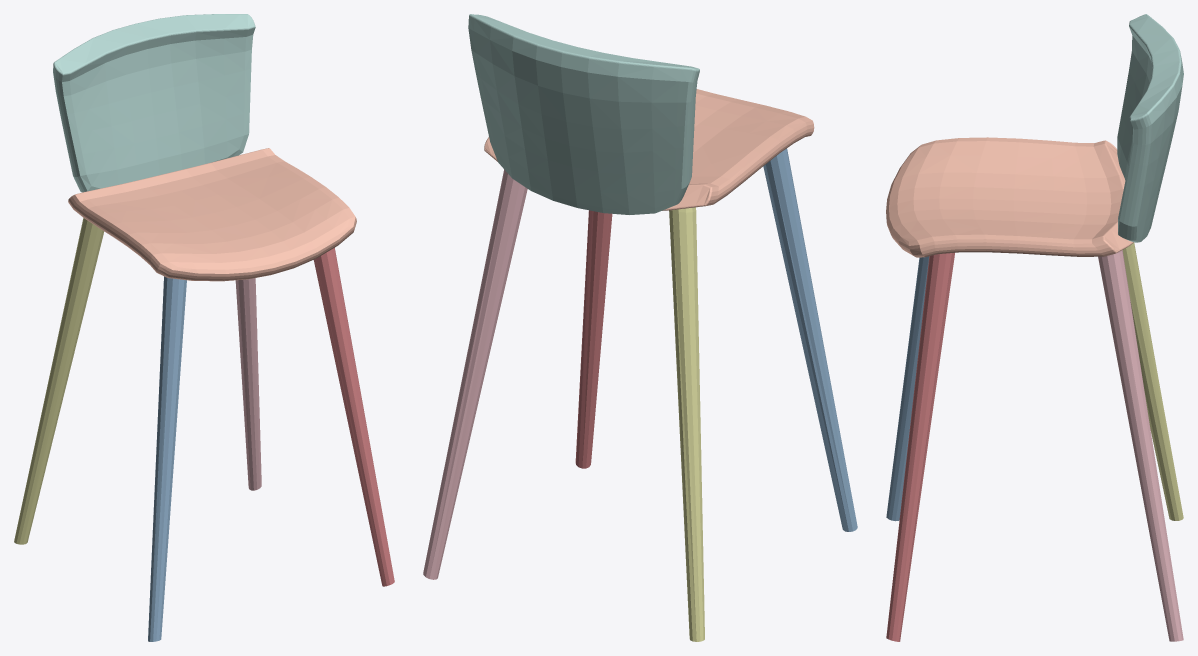
The model's file is 56687_assembly.glb.
3 views of the same model, side by side, from view 1: azimuth 30°, elevation 25°; view 2: azimuth 150°, elevation 25°; view 3: azimuth 270°, elevation 25° (orthographic). The views are drawn at different scales.
Parts seen in each view (by area): view 1: part_04, part_01, part_05, part_00, part_03, part_02; view 2: part_04, part_03, part_01, part_02, part_05, part_00; view 3: part_01, part_04, part_02, part_00, part_03, part_05.
Boxes of the visible parts, x1,y1,x2,y2 form: part_04: [53, 14, 255, 192]; part_01: [68, 148, 356, 281]; part_05: [148, 276, 186, 641]; part_00: [313, 247, 394, 586]; part_03: [14, 218, 104, 544]; part_02: [235, 278, 261, 490]; part_04: [468, 14, 699, 214]; part_03: [669, 207, 704, 641]; part_01: [484, 89, 814, 210]; part_02: [423, 169, 527, 579]; part_05: [763, 148, 857, 531]; part_00: [575, 210, 612, 468]; part_01: [886, 137, 1133, 257]; part_04: [1117, 14, 1183, 242]; part_02: [1098, 250, 1183, 641]; part_00: [886, 253, 954, 641]; part_03: [1122, 242, 1183, 520]; part_05: [886, 256, 929, 521].
Bounding box in the file's own units: 0.7083 × 1.36 × 0.7025.
